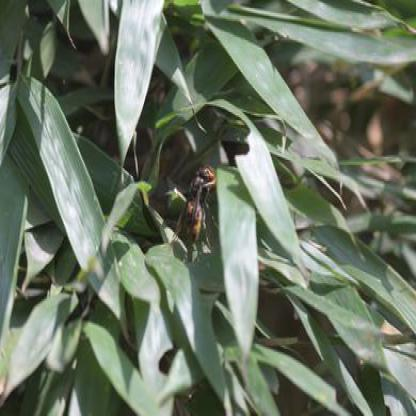Asian Hornet: (179, 158, 226, 262)
